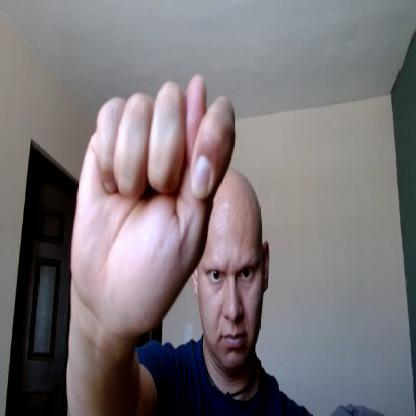T: (68, 74, 238, 338)
